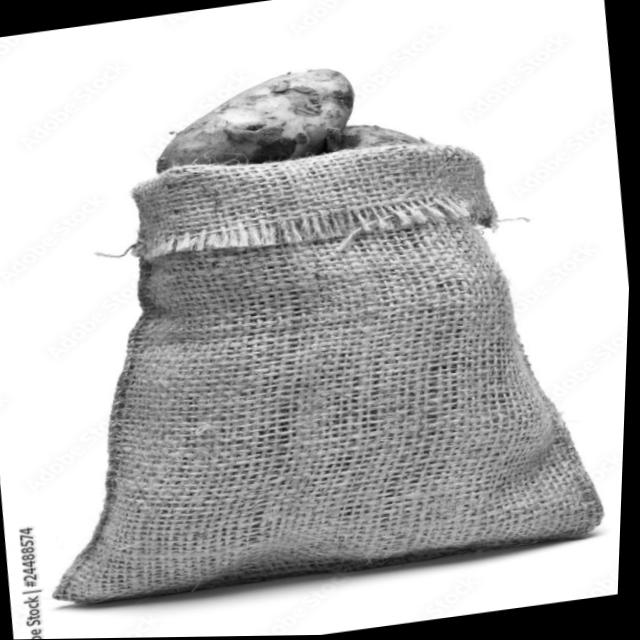sack: (8, 113, 621, 611)
